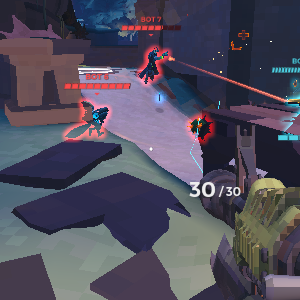model: (75, 98, 108, 148), (140, 40, 165, 92)
